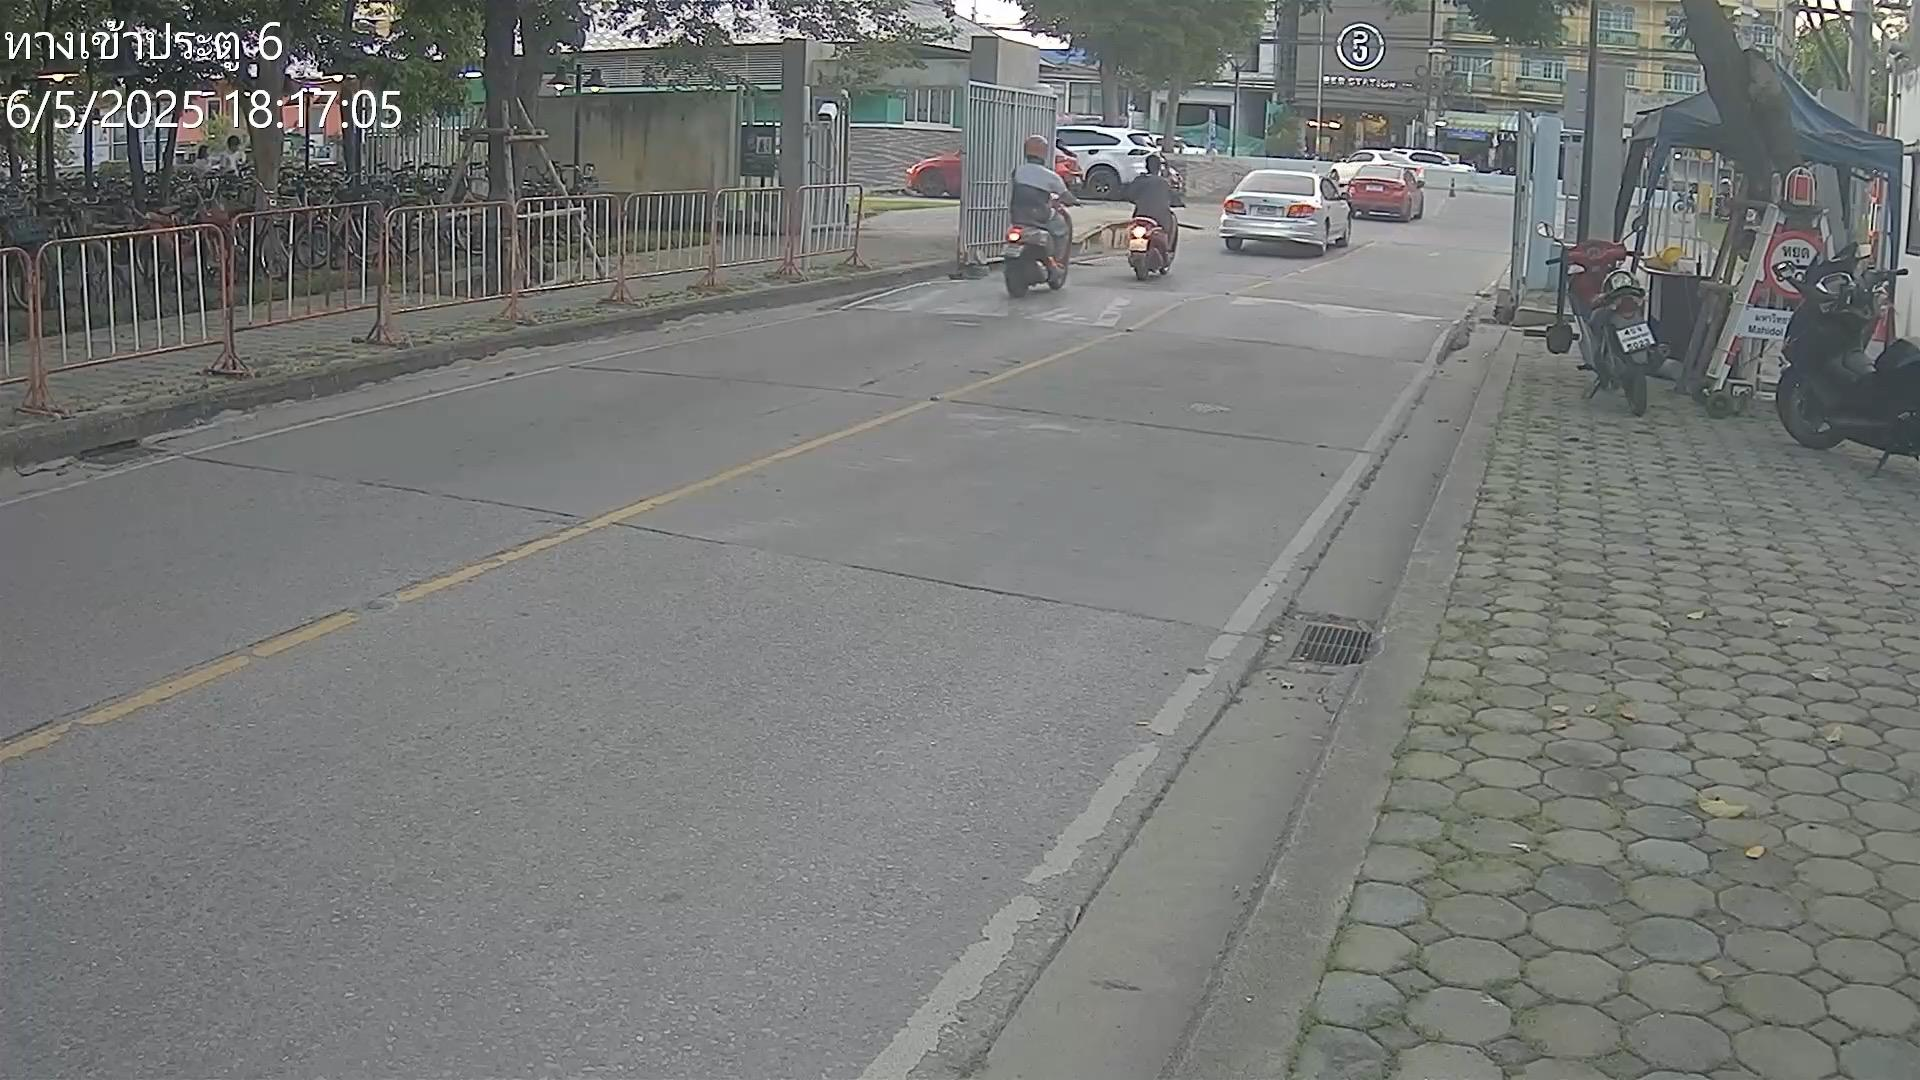With-Helmet: (1023, 135, 1048, 164)
